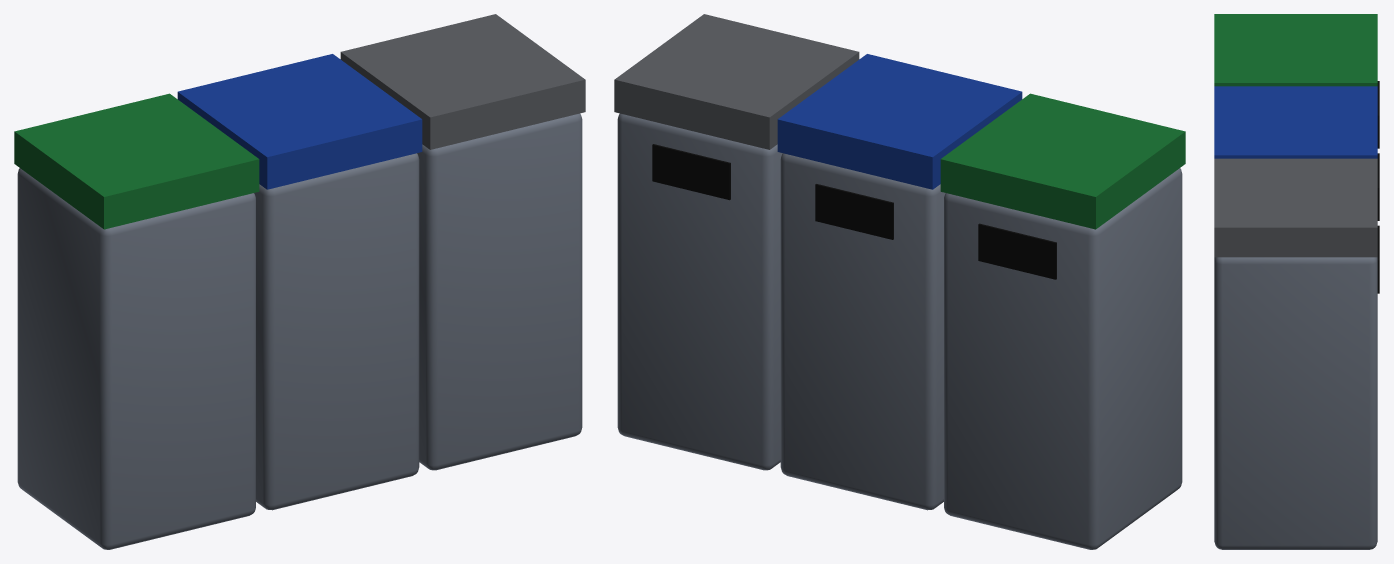
Rendered from office.waste.recycling_3.glb.
3 renders of one model, left to right at view 1: azimuth 30°, elevation 25°; view 2: azimuth 150°, elevation 25°; view 3: azimuth 270°, elevation 25°, orthographic. The views are drawn at different scales.
Visible parts, largest first — view 1: main__steel_painted, main__plastic_green, main__plastic_grey, main__plastic_blue; view 2: main__steel_painted, main__plastic_green, main__plastic_grey, main__plastic_blue, main__plastic_black; view 3: main__steel_painted, main__plastic_grey, main__plastic_blue, main__plastic_green, main__plastic_black.
Boxes of the visible parts, x1=… form: main__steel_painted: x1=17, y1=113, x2=582, y2=549; main__plastic_green: x1=14, y1=93, x2=259, y2=229; main__plastic_grey: x1=340, y1=14, x2=585, y2=149; main__plastic_blue: x1=177, y1=54, x2=422, y2=189; main__steel_painted: x1=617, y1=113, x2=1182, y2=549; main__plastic_green: x1=940, y1=93, x2=1185, y2=229; main__plastic_grey: x1=614, y1=14, x2=859, y2=149; main__plastic_blue: x1=777, y1=54, x2=1022, y2=189; main__plastic_black: x1=652, y1=144, x2=1056, y2=279; main__steel_painted: x1=1214, y1=257, x2=1377, y2=549; main__plastic_grey: x1=1214, y1=158, x2=1377, y2=257; main__plastic_blue: x1=1214, y1=86, x2=1377, y2=158; main__plastic_green: x1=1214, y1=14, x2=1377, y2=86; main__plastic_black: x1=1377, y1=81, x2=1379, y2=293.
Size of the model in its own units: 1.24 by 0.88 by 0.405.
